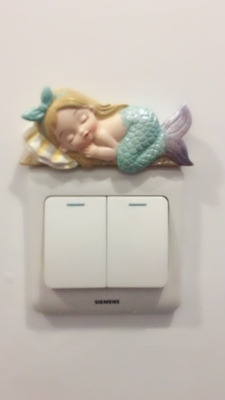switch: (103, 190, 175, 294), (43, 188, 109, 292)
